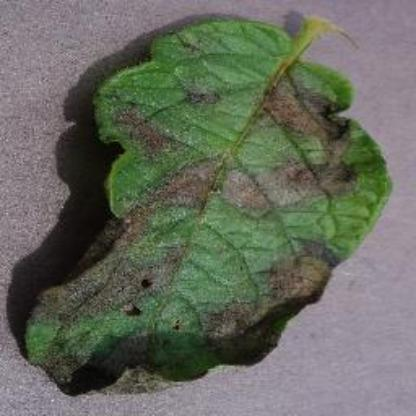Late-Blight: (17, 11, 395, 402)
